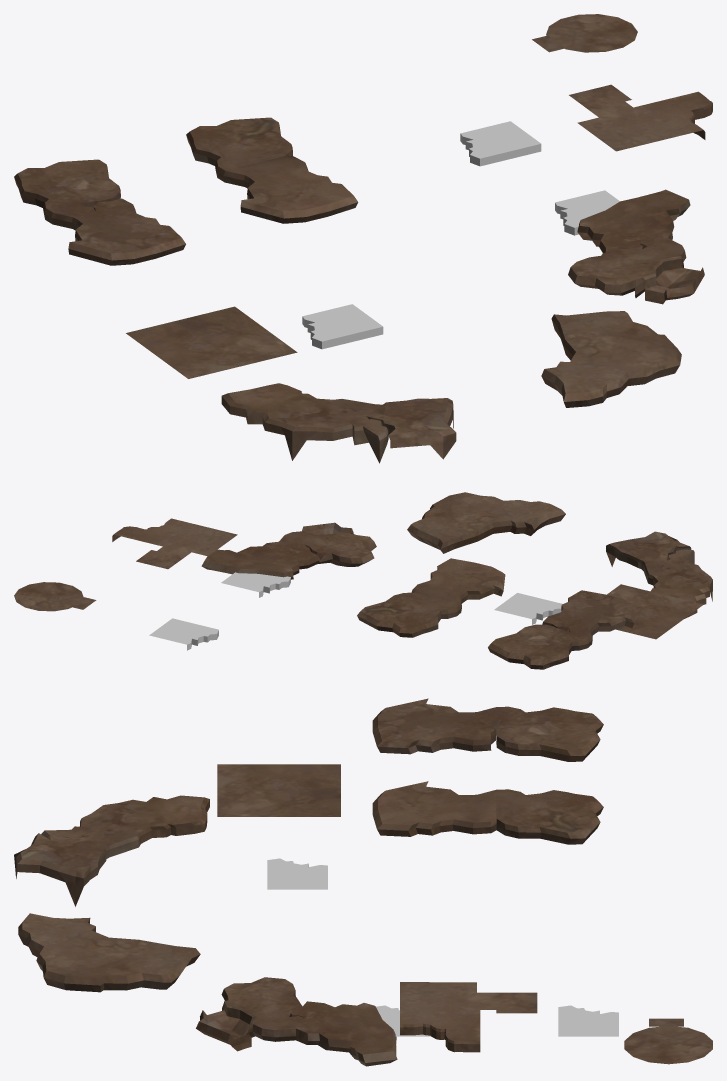
The model's file is FB7_dibiao01.FBX.
3 renders of one model, top to bottom at view 1: azimuth 30°, elevation 25°; view 2: azimuth 150°, elevation 25°; view 3: azimuth 270°, elevation 25°, orthographic. The views are drawn at different scales.
Visible parts, largest first — view 1: FB7_dibiao01_020, FB7_dibiao01_016, FB7_dibiao01_022, FB7_dibiao01_021, FB7_dibiao01_006, FB7_dibiao01_005, FB7_dibiao01_013, FB7_dibiao01_018, FB7_dibiao01_025, FB7_dibiao01_024, FB7_dibiao01_017; view 2: FB7_dibiao01_022, FB7_dibiao01_021, FB7_dibiao01_006, FB7_dibiao01_016, FB7_dibiao01_020, FB7_dibiao01_013, FB7_dibiao01_005, FB7_dibiao01_018, FB7_dibiao01_024, FB7_dibiao01_025, FB7_dibiao01_017; view 3: FB7_dibiao01_022, FB7_dibiao01_021, FB7_dibiao01_016, FB7_dibiao01_006, FB7_dibiao01_020, FB7_dibiao01_005, FB7_dibiao01_013, FB7_dibiao01_018, FB7_dibiao01_024, FB7_dibiao01_025.
Part boxes in pixels (box(x1,y1,x2,y2)): FB7_dibiao01_020: box(221, 383, 456, 463); FB7_dibiao01_016: box(568, 189, 704, 304); FB7_dibiao01_022: box(186, 117, 358, 223); FB7_dibiao01_021: box(14, 159, 185, 265); FB7_dibiao01_006: box(541, 311, 681, 407); FB7_dibiao01_005: box(126, 306, 297, 378); FB7_dibiao01_013: box(569, 84, 712, 151); FB7_dibiao01_018: box(546, 14, 637, 52); FB7_dibiao01_025: box(302, 304, 383, 349); FB7_dibiao01_024: box(460, 121, 541, 166); FB7_dibiao01_017: box(555, 190, 619, 235); FB7_dibiao01_022: box(357, 558, 505, 637); FB7_dibiao01_021: box(488, 590, 635, 669); FB7_dibiao01_006: box(407, 492, 565, 553); FB7_dibiao01_016: box(201, 522, 376, 579); FB7_dibiao01_020: box(606, 531, 712, 618); FB7_dibiao01_013: box(112, 518, 237, 569); FB7_dibiao01_005: box(607, 584, 703, 639); FB7_dibiao01_018: box(14, 582, 83, 611); FB7_dibiao01_024: box(149, 618, 218, 650); FB7_dibiao01_025: box(494, 593, 562, 624); FB7_dibiao01_017: box(221, 572, 290, 597); FB7_dibiao01_022: box(372, 781, 603, 844); FB7_dibiao01_021: box(372, 698, 603, 761); FB7_dibiao01_016: box(196, 977, 397, 1066); FB7_dibiao01_006: box(18, 913, 200, 992); FB7_dibiao01_020: box(14, 795, 209, 906); FB7_dibiao01_005: box(217, 764, 340, 816); FB7_dibiao01_013: box(400, 982, 537, 1052); FB7_dibiao01_018: box(624, 1026, 712, 1064); FB7_dibiao01_024: box(558, 1005, 618, 1036); FB7_dibiao01_025: box(267, 858, 327, 889).
Bounding box in the file's own units: 9873 × 1545 × 8838.
